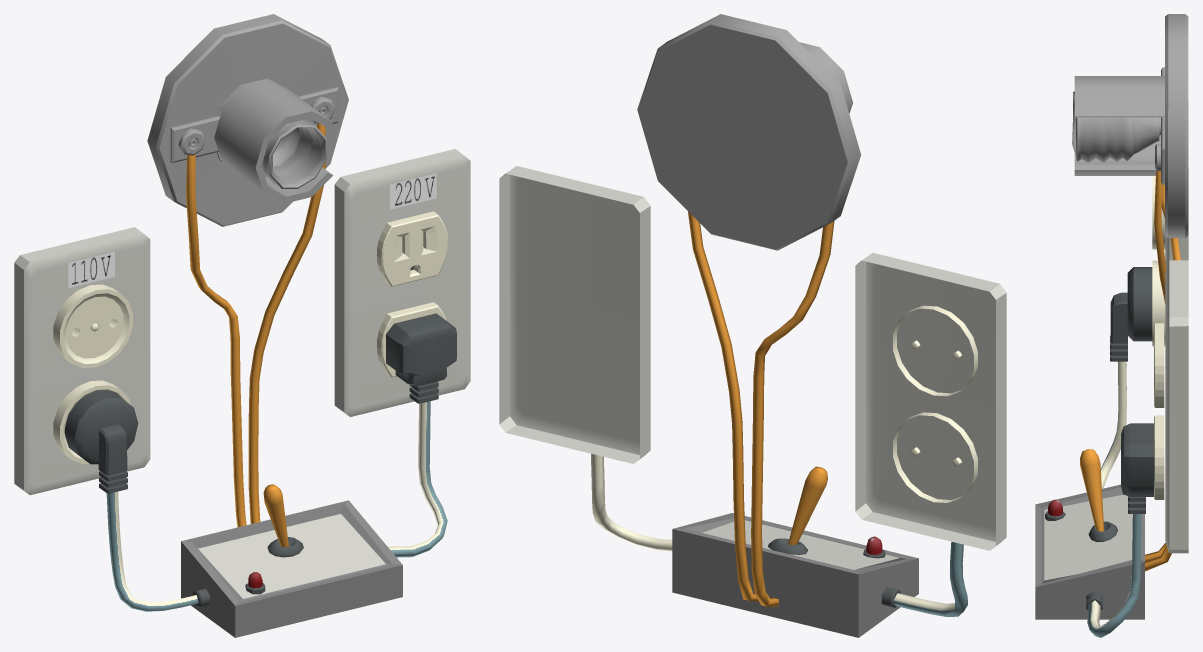
The model's file is socketplugs.fbx.
3 renders of one model, left to right at view 1: azimuth 30°, elevation 25°; view 2: azimuth 150°, elevation 25°; view 3: azimuth 270°, elevation 25°, orthographic. The views are drawn at different scales.
Parts seen in each view (by area): view 1: SocketsPlugs, SocketsPlugs_LightSocket, SocketsPlugsSwitch; view 2: SocketsPlugs, SocketsPlugs_LightSocket, SocketsPlugsSwitch; view 3: SocketsPlugs, SocketsPlugs_LightSocket, SocketsPlugsSwitch.
Part boxes in pixels (bbox=[...]): SocketsPlugs: bbox=[14, 123, 470, 637]; SocketsPlugs_LightSocket: bbox=[147, 14, 348, 226]; SocketsPlugsSwitch: bbox=[263, 484, 288, 547]; SocketsPlugs: bbox=[499, 166, 1006, 637]; SocketsPlugs_LightSocket: bbox=[637, 14, 860, 250]; SocketsPlugsSwitch: bbox=[788, 466, 827, 544]; SocketsPlugs: bbox=[1035, 102, 1188, 637]; SocketsPlugs_LightSocket: bbox=[1072, 14, 1188, 237]; SocketsPlugsSwitch: bbox=[1080, 449, 1104, 531].
Bounding box in the file's own units: 8.19 × 9.49 × 2.41.
